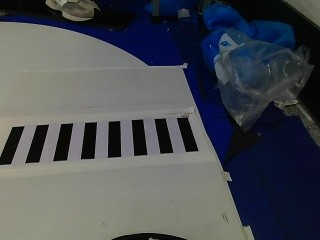crosswalk: (0, 117, 202, 162)
